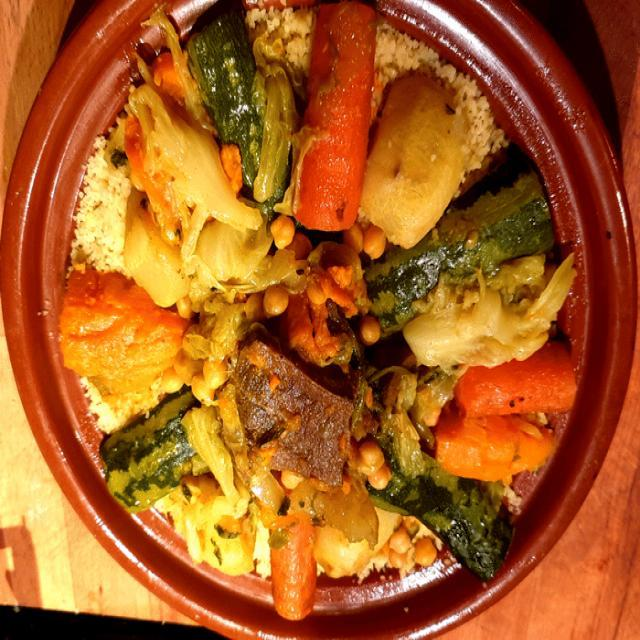Couscous: (55, 0, 578, 624)
